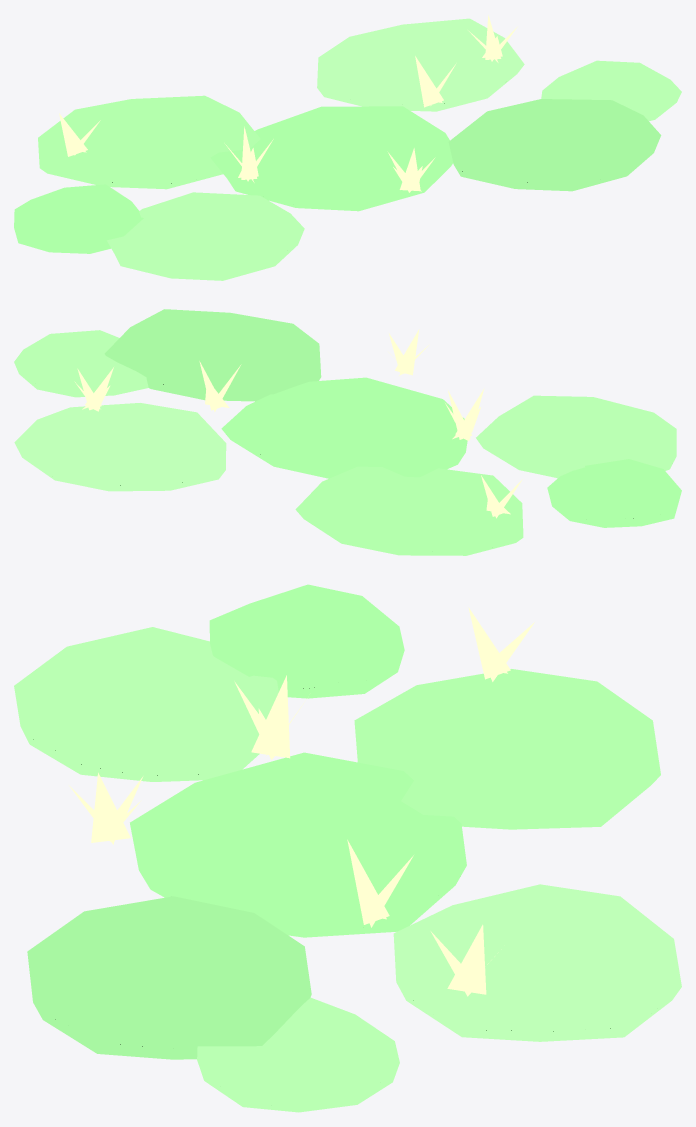
Rendered from terrain_grass_island.gltf.
The picture shows the model from 3 angles, top to bottom: view 1: azimuth 30°, elevation 25°; view 2: azimuth 150°, elevation 25°; view 3: azimuth 270°, elevation 25°; orthographic projection. The views are drawn at different scales.
Parts seen in each view (by area): view 1: terrain_grass_island; view 2: terrain_grass_island; view 3: terrain_grass_island.
Boxes of the visible parts, x1,y1,x2,y2 form: terrain_grass_island: (14, 15, 681, 280); terrain_grass_island: (14, 309, 681, 555); terrain_grass_island: (14, 584, 681, 1112).
Bounding box in the file's own units: 3.54 × 0.3176 × 1.98.
